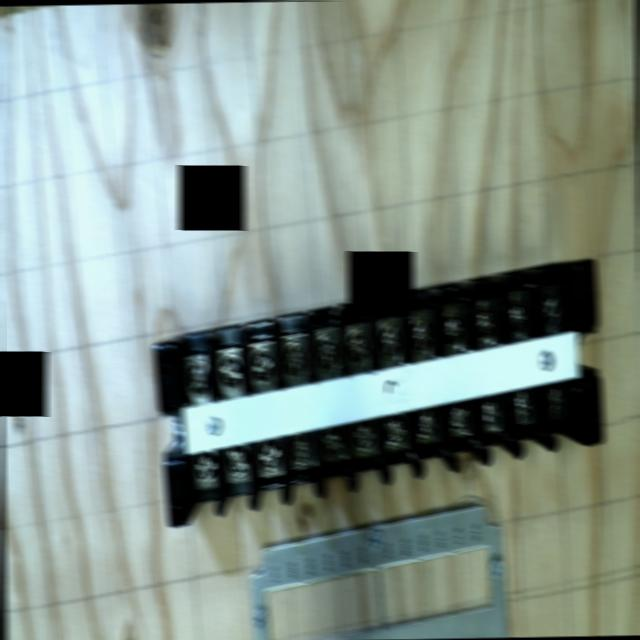Phillips_Block: (133, 260, 629, 526)
